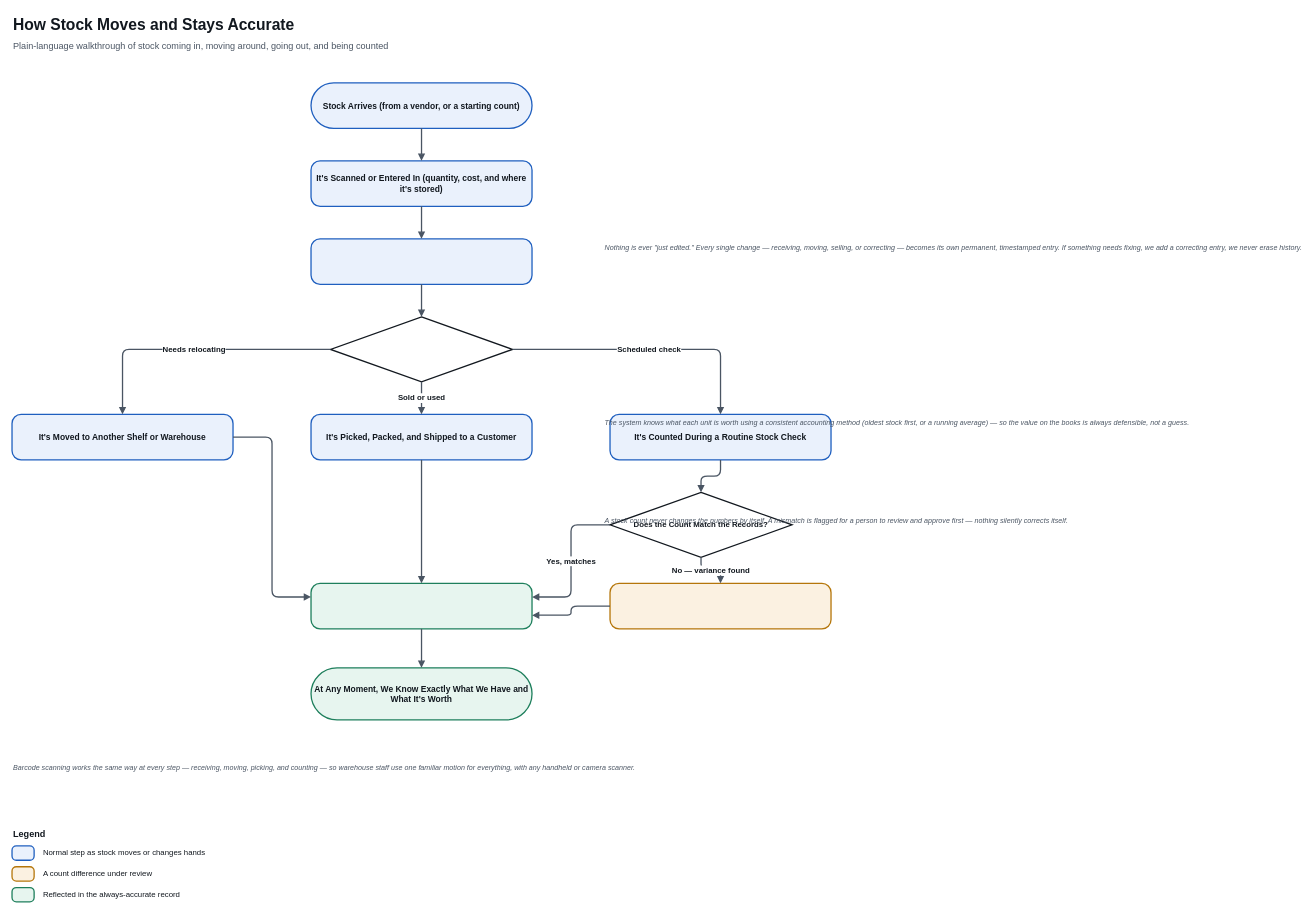
Image size: 1313x915. Some labels were removed from this diagram. The centre of each missing label's shape, as x and y in pixels:
A Permanent Record Is Created (what, how much, worth how much, when): point 421,261
A Reviewed Correction Is Made, With a Reason: point 720,605
Every Movement Updates the Same Permanent Record: point 421,605
What Happens to It Next?: point 421,349
